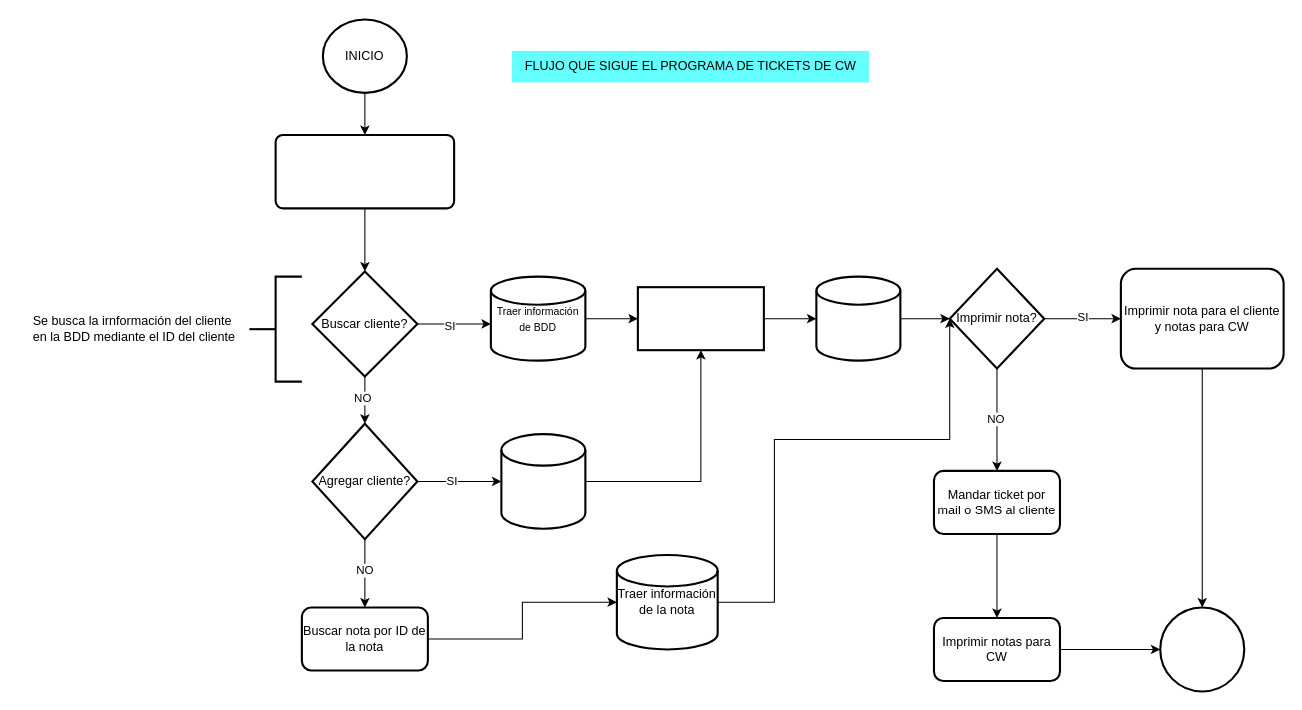
This 1302x710 diagram has some shape labels left out. The shapes that lost their labels are listed below. From the top down, each one's centre as x and y in pixels, then its label:
At pixel 364 171: "1-Buscar cliente 2-Buscar nota 3-Agregar cliente".
At pixel 700 318: "Llenar nota nueva".
At pixel 858 318: "Guardar nota en BDD".
At pixel 543 481: "Agregar cliente a BDD".
At pixel 1202 649: "FIN".
